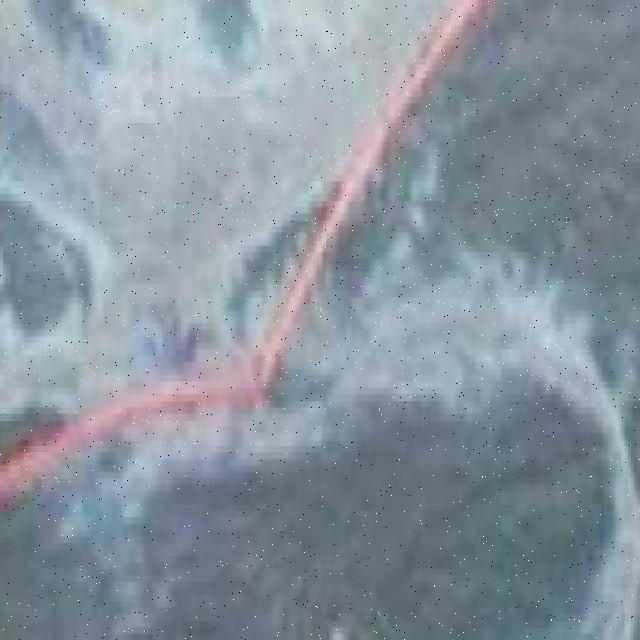oil: (470, 280, 639, 640)
